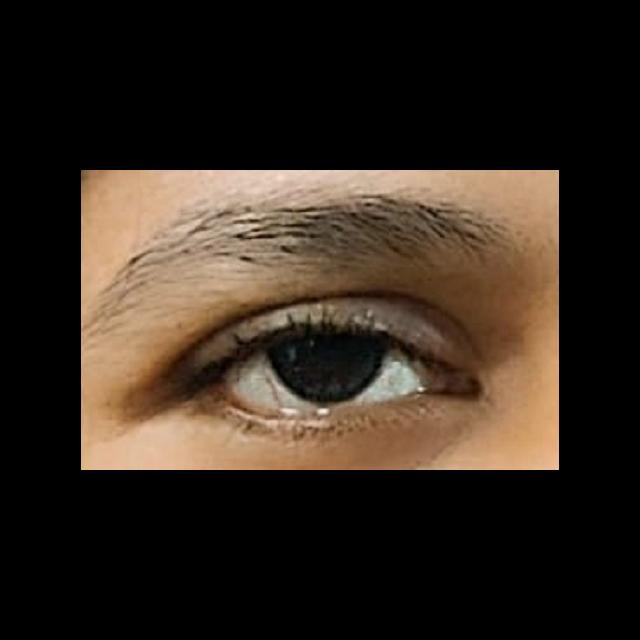eye: (220, 329, 444, 417)
iris: (264, 334, 395, 403)
